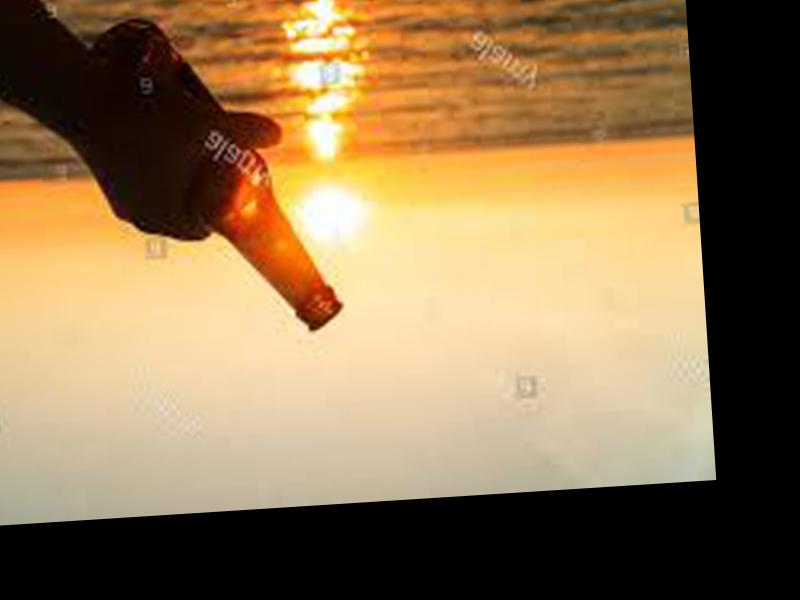Beer: (81, 6, 343, 349)
